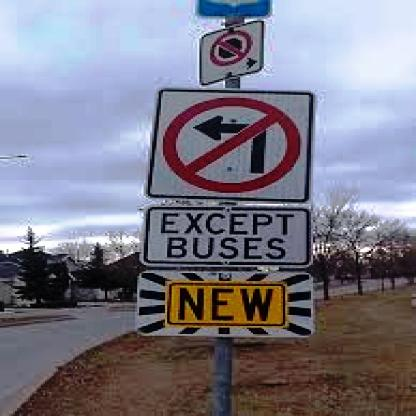No left turn: (154, 89, 304, 201)
